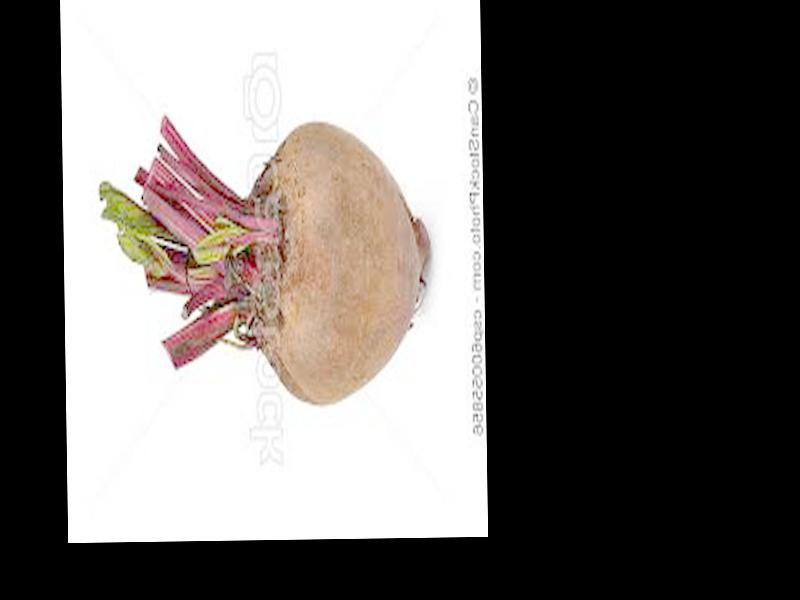Beet: (98, 112, 431, 411)
